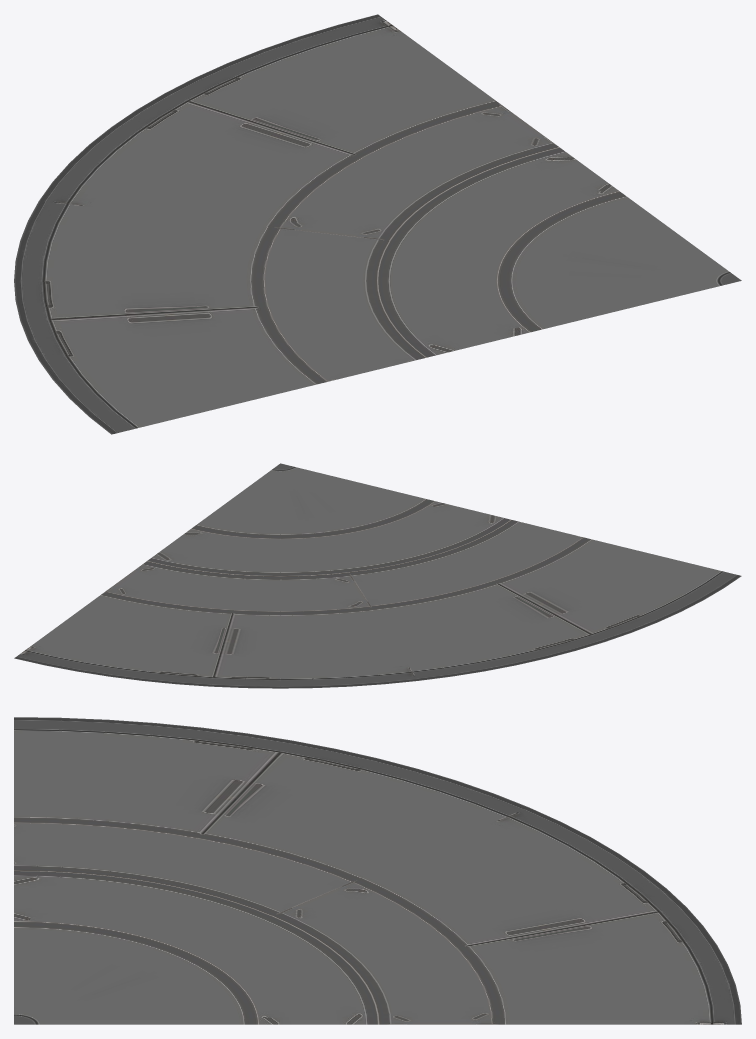
Rendered from platform_metal2_curve.gltf.
The picture shows the model from 3 angles, top to bottom: view 1: azimuth 30°, elevation 25°; view 2: azimuth 150°, elevation 25°; view 3: azimuth 270°, elevation 25°; orthographic projection. The views are drawn at different scales.
Visible parts, largest first — view 1: Platform_Metal2_Curve; view 2: Platform_Metal2_Curve; view 3: Platform_Metal2_Curve.
Part boxes in pixels (left/top/right/bottom): Platform_Metal2_Curve: left=14, top=14, right=741, bottom=434; Platform_Metal2_Curve: left=14, top=463, right=741, bottom=688; Platform_Metal2_Curve: left=14, top=717, right=741, bottom=1024.
Size of the model in its own units: 4 by 0 by 4.
Materials: 1 (1 with a texture image).
